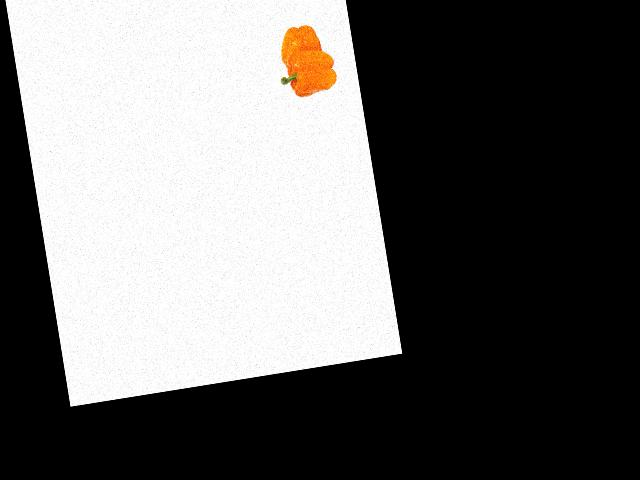bell_pepper: (275, 19, 329, 70)
